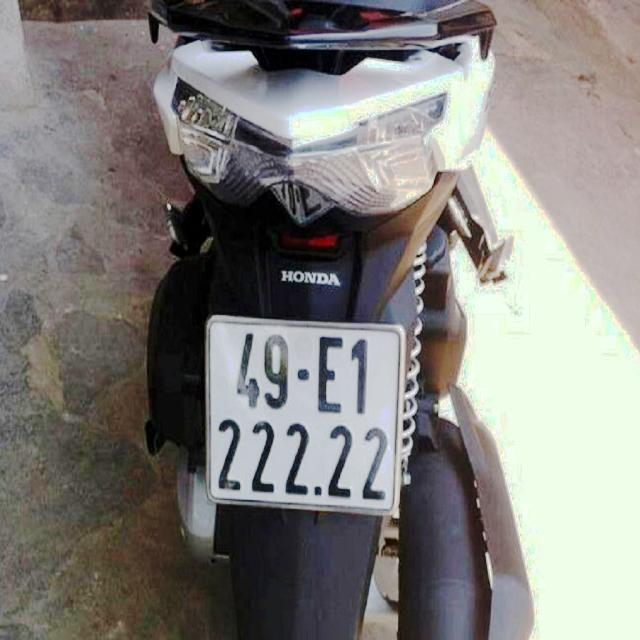license_plate: (207, 319, 402, 512)
